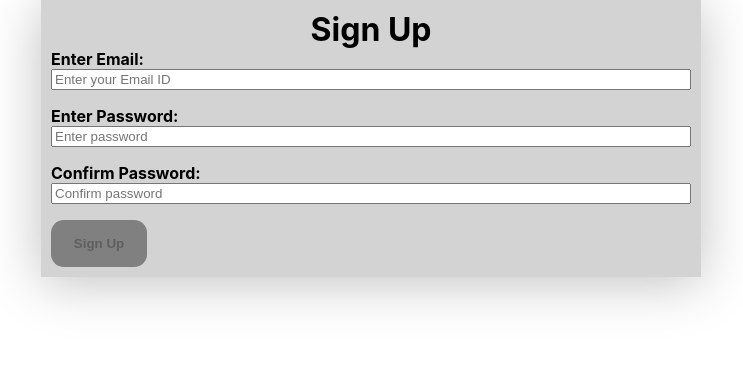
Test: Email Component should be › input should contain characters between @ and .
Type "test.com@gmail" into the field with test id "email-field" at {"x": 371, "y": 80}, box [51,69,691,90]
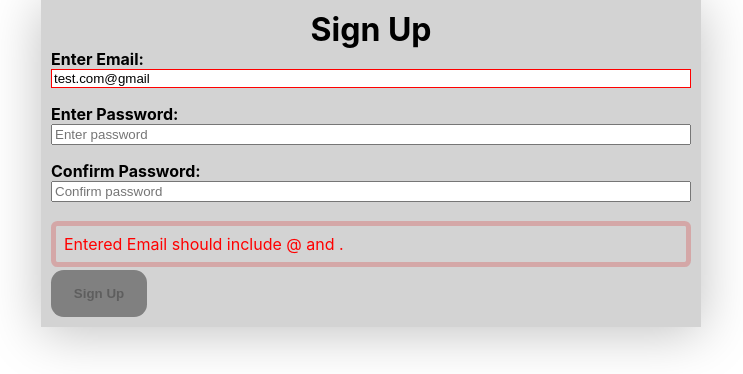
Check: the button with test id "login-form" is disabled, box [51,270,147,317]
Check: the text with test id "email-error-field" reads "Entered Email should include @ and .", box [64,234,344,254]
